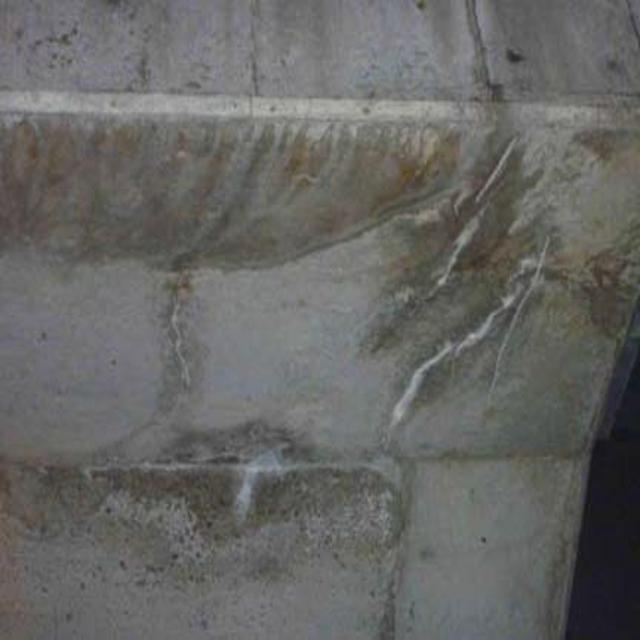freelime: (387, 111, 569, 432), (170, 423, 314, 513)
